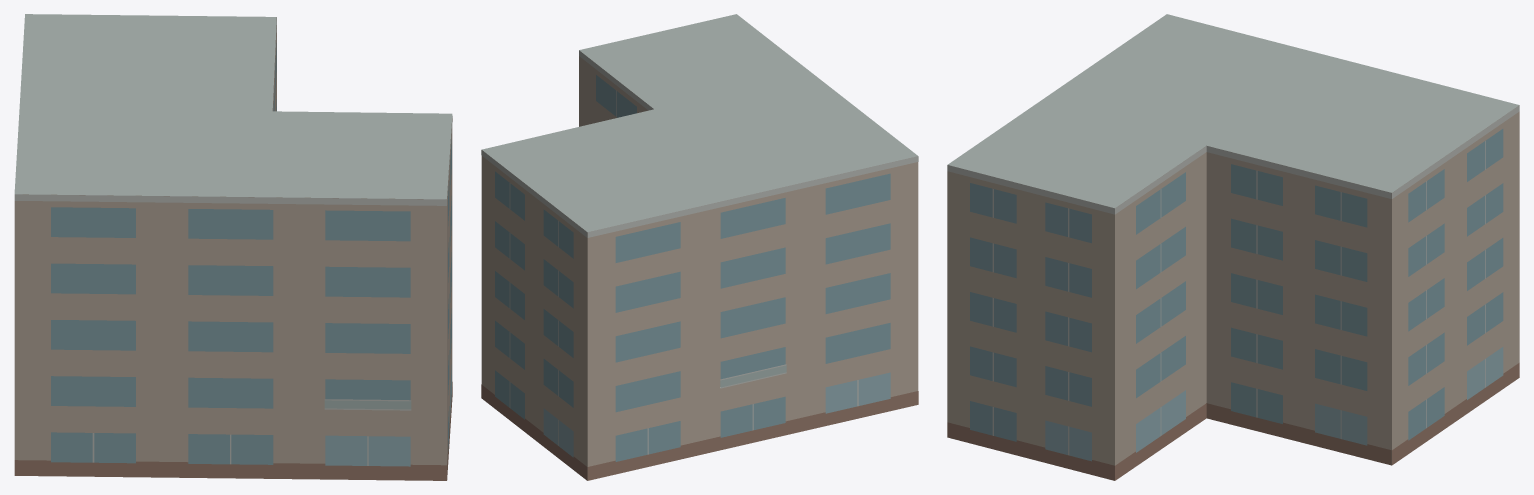
File: survey-upis-32495336.glb
3 views of the same model, side by side, from view 1: azimuth 30°, elevation 25°; view 2: azimuth 150°, elevation 25°; view 3: azimuth 270°, elevation 25° (orthographic). The views are drawn at different scales.
Parts seen in each view (by area): view 1: survey-upis-32495336.tmp; view 2: survey-upis-32495336.tmp; view 3: survey-upis-32495336.tmp.
Boxes of the visible parts, x1=… form: survey-upis-32495336.tmp: x1=14, y1=14, x2=452, y2=480; survey-upis-32495336.tmp: x1=481, y1=14, x2=918, y2=480; survey-upis-32495336.tmp: x1=947, y1=14, x2=1519, y2=480.
Size of the model in its own units: 16.06 by 10.5 by 19.98.
